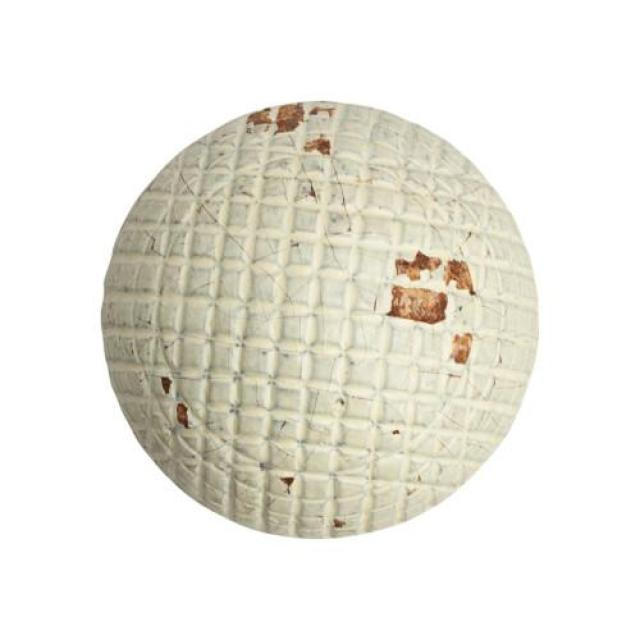ball: (90, 95, 546, 542)
